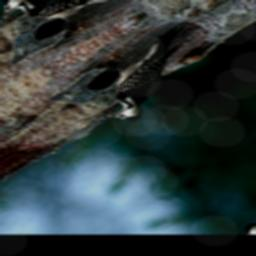Woodpecker: (74, 24, 228, 131)
